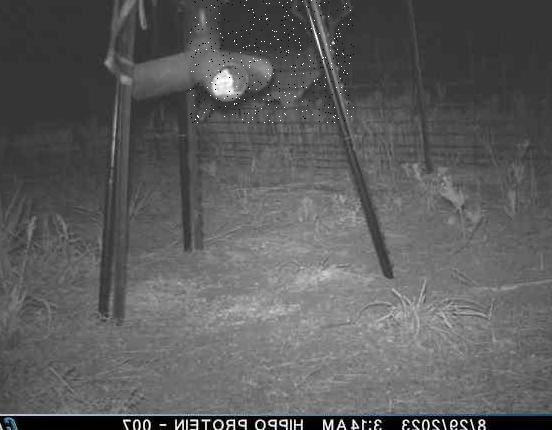Deer: (190, 0, 354, 123)
